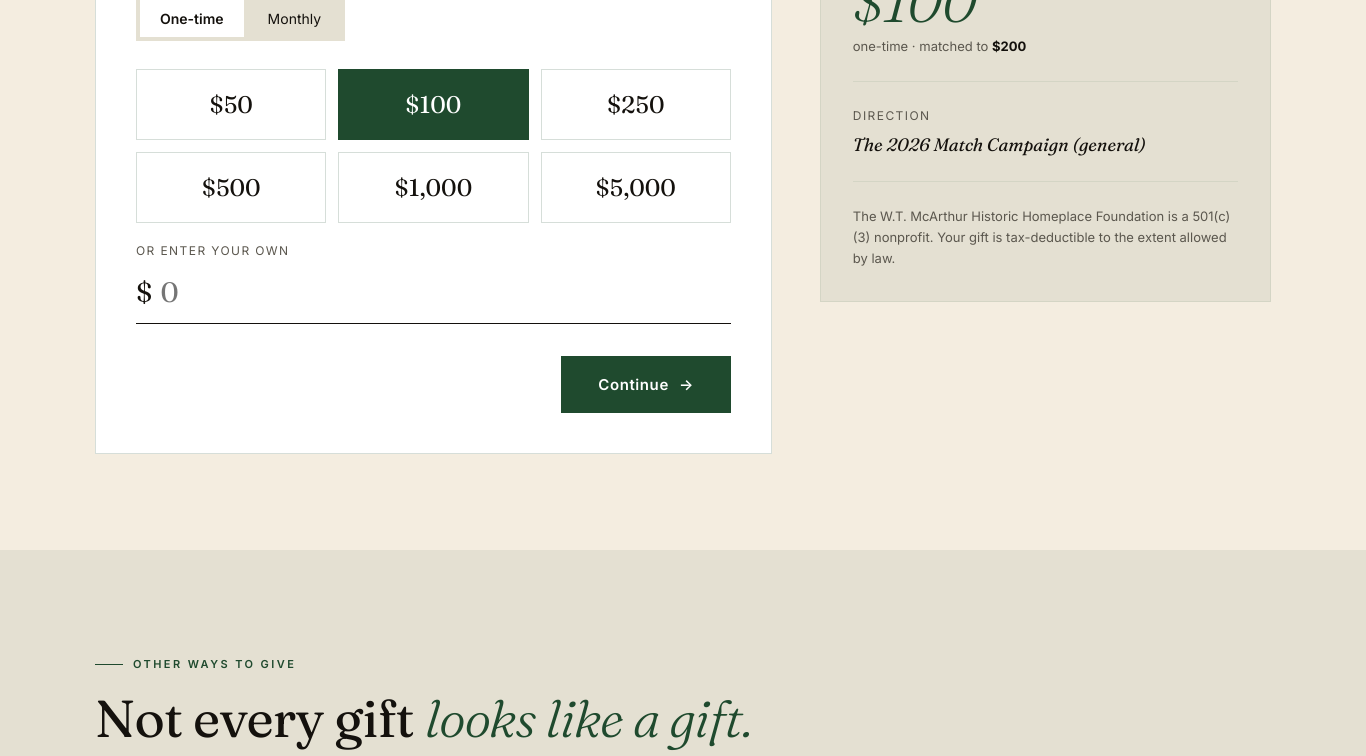
Scenario: DonateForm step machine › gates the Review step until name and a valid email are provided
The image size is (1366, 756).
(page scrolled)
Click the button "Continue →": click(646, 384) [561, 356, 731, 413]
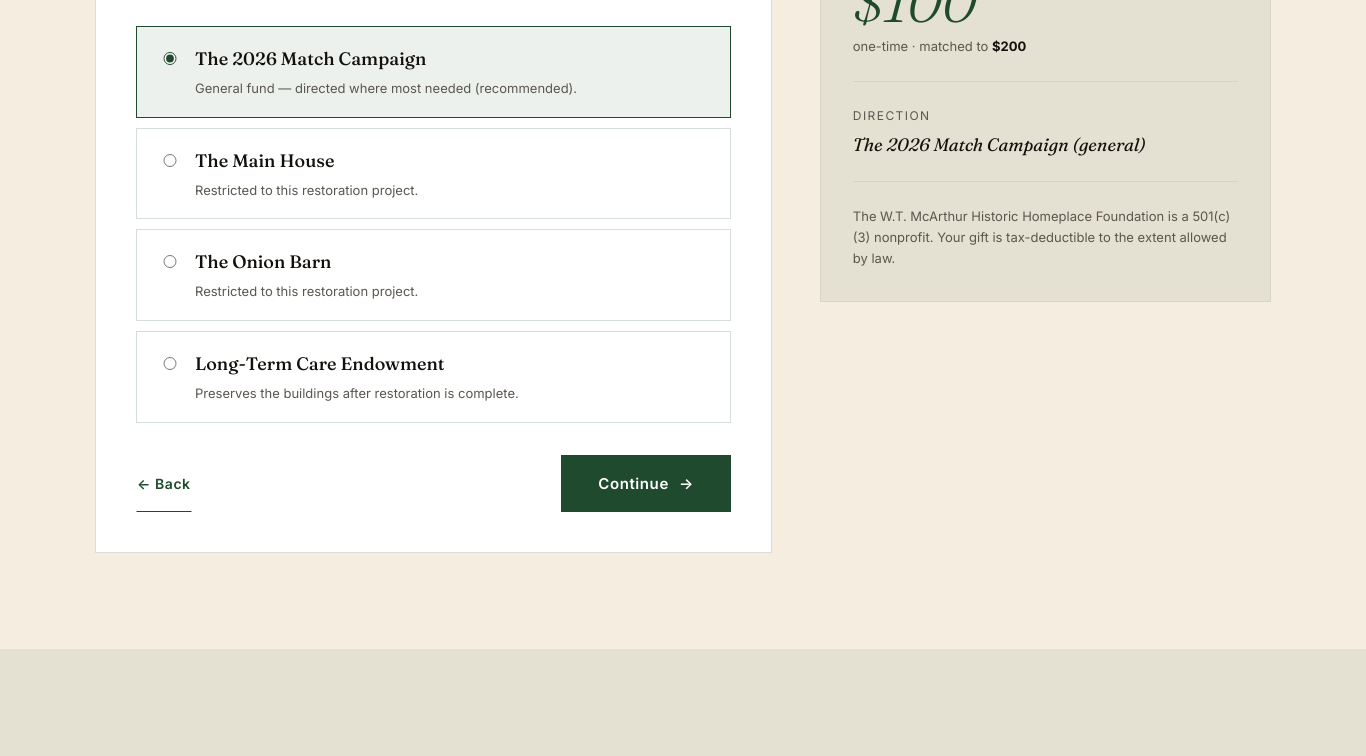
Click the button "Continue →": click(646, 483) [561, 455, 731, 512]
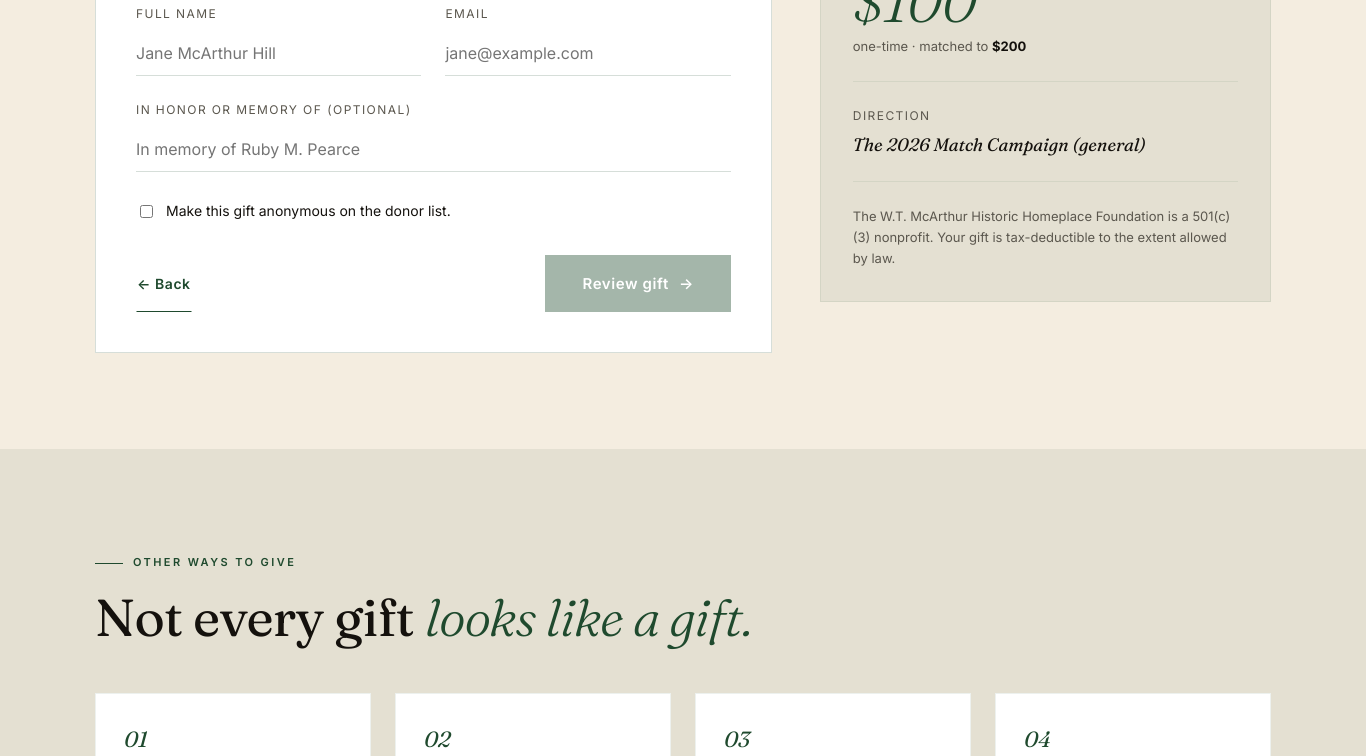
Result: the button "Review gift →" is disabled at [546, 255, 731, 312]
In the field with placeholder "Jane McArthur Hill": (279, 54) [136, 31, 421, 76], type "Jane"
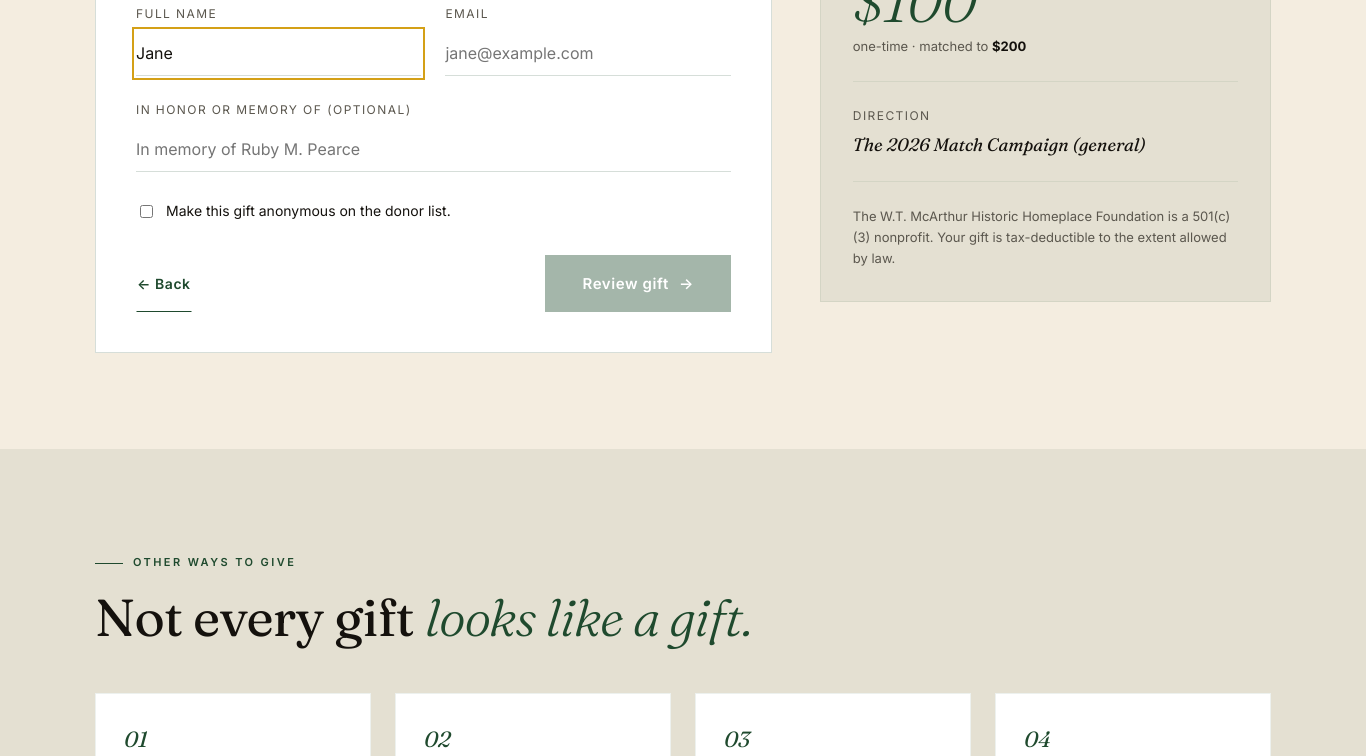
Result: the button "Review gift →" is disabled at [546, 255, 731, 312]
In the field with placeholder "jane@example.com": (588, 54) [445, 31, 731, 76], type "not-an-email"
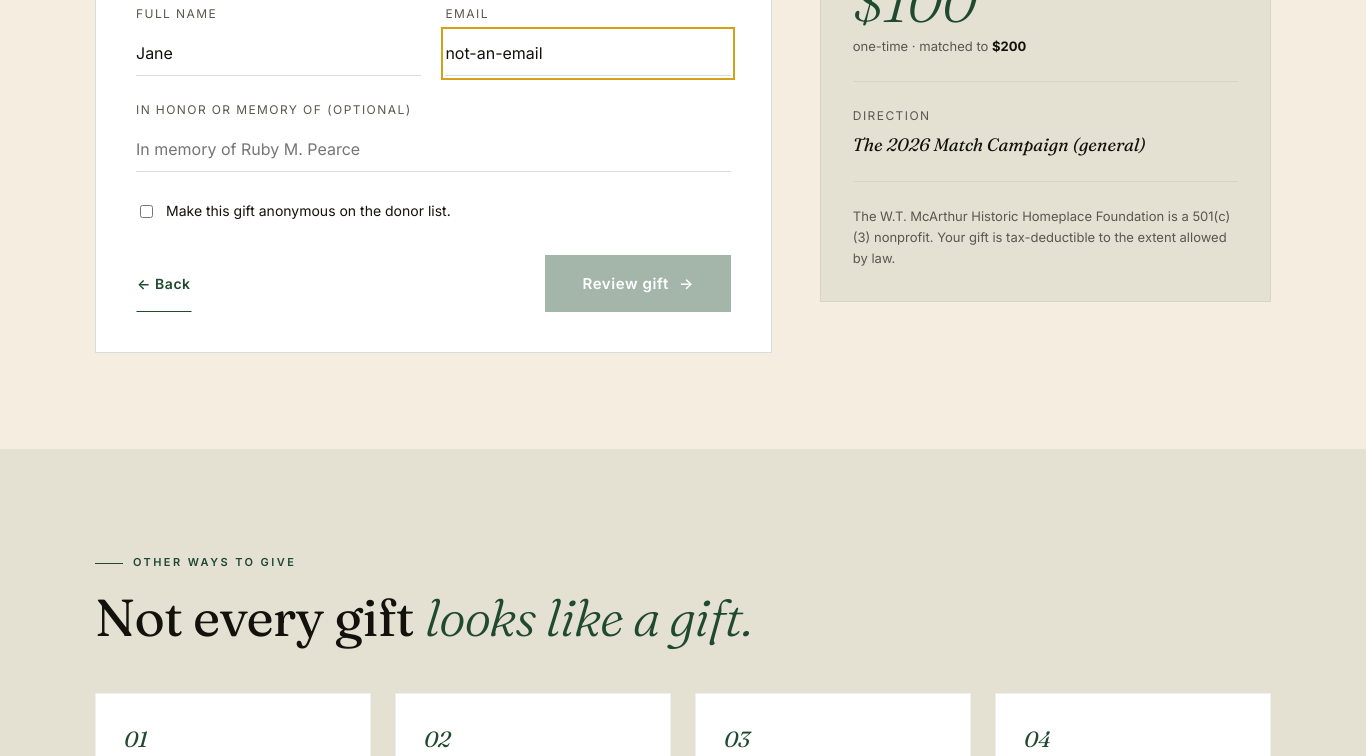
Result: the button "Review gift →" is disabled at [546, 255, 731, 312]
Replace the text in the field with placeholder "jane@example.com" with "jane@example.com": (588, 54) [445, 31, 731, 76]
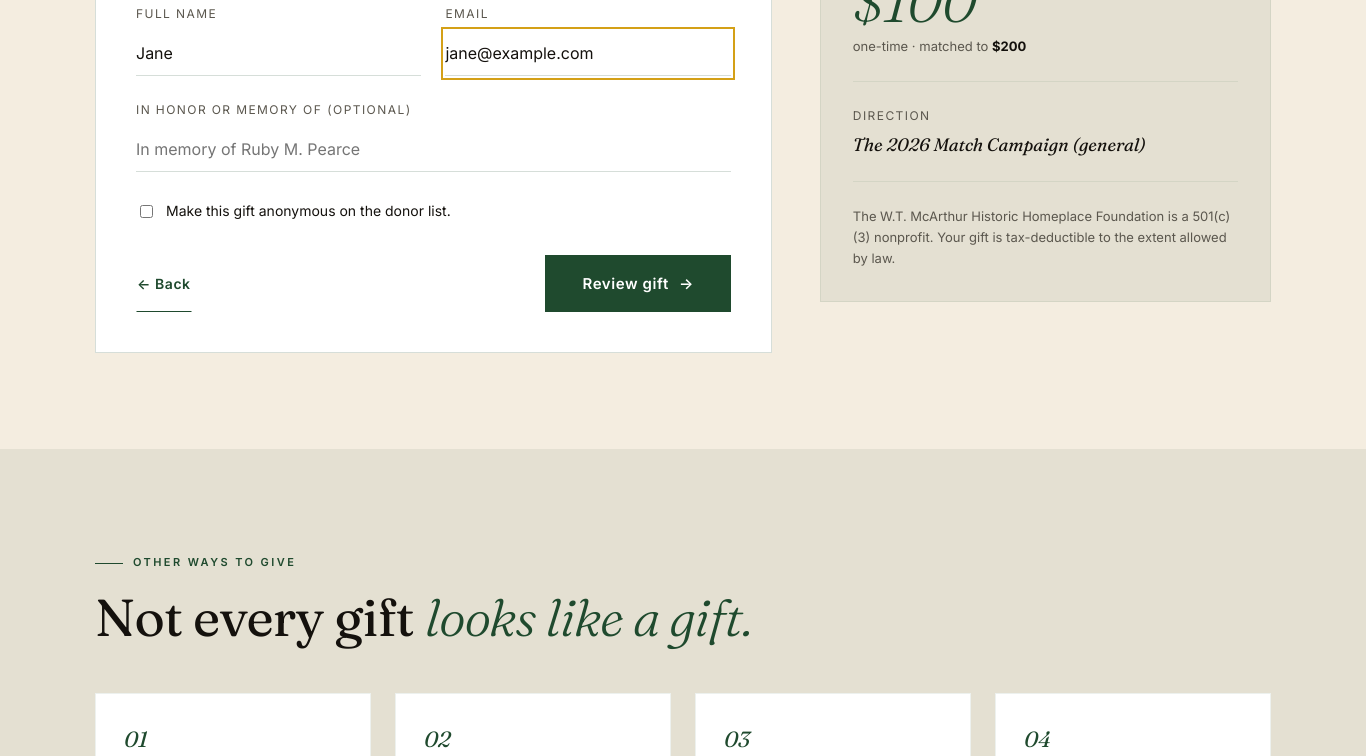
Result: the button "Review gift →" is enabled at [546, 255, 731, 312]
